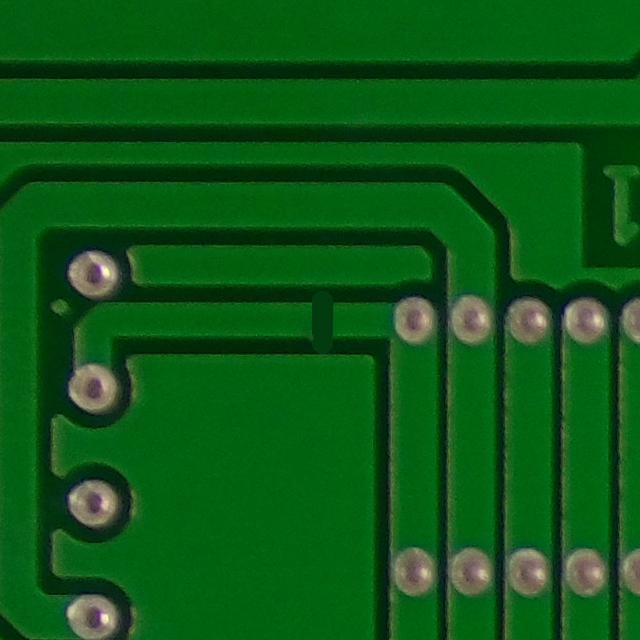open_circuit: (289, 289, 351, 351)
